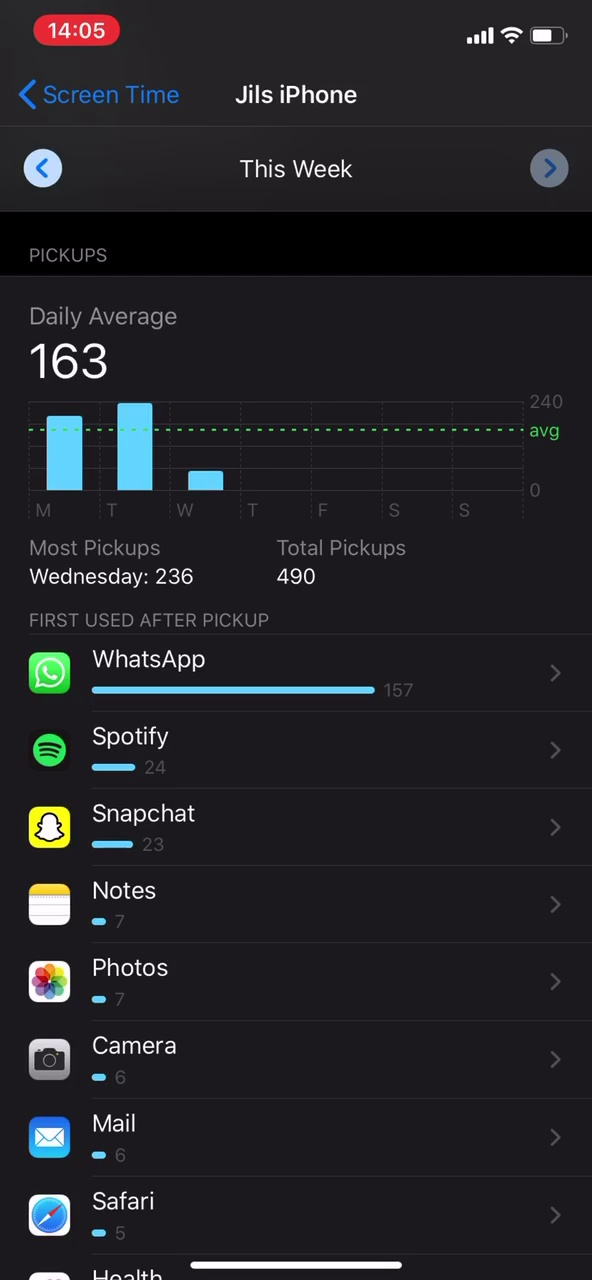pick_app: (25, 644, 400, 710), (17, 794, 217, 858), (23, 1028, 207, 1094), (18, 953, 220, 1013), (22, 880, 211, 938), (22, 1188, 190, 1247), (20, 721, 201, 775), (25, 1107, 165, 1169)
pick_over: (22, 516, 443, 600)
week: (227, 144, 370, 195)
